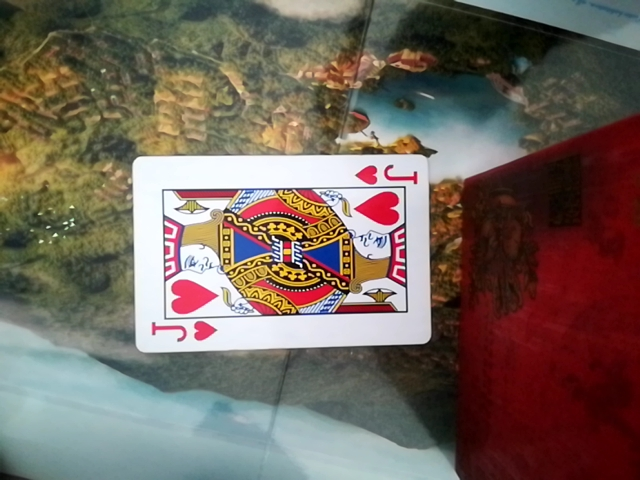hx j: (126, 153, 434, 354)
